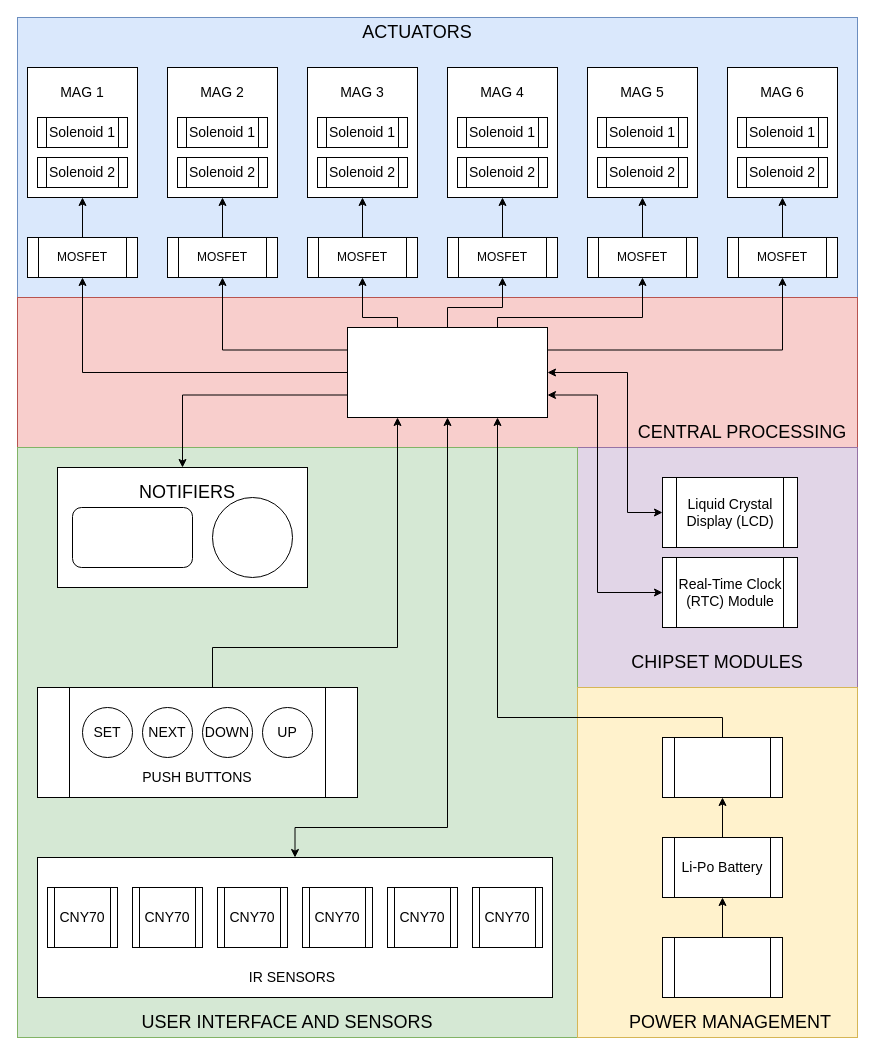
Some shapes in this 875 by 1055 pixel diagram are drawn without their labels. The shapes that lost their labels are listed below. From the top down, each one's centre as x and y in pixels, then its label:
the point at 447,372: Arduino Mega 2560
the point at 132,537: LED Indicator
the point at 252,537: Buzzer
the point at 722,767: Boost Converter
the point at 722,967: Charge Controller
